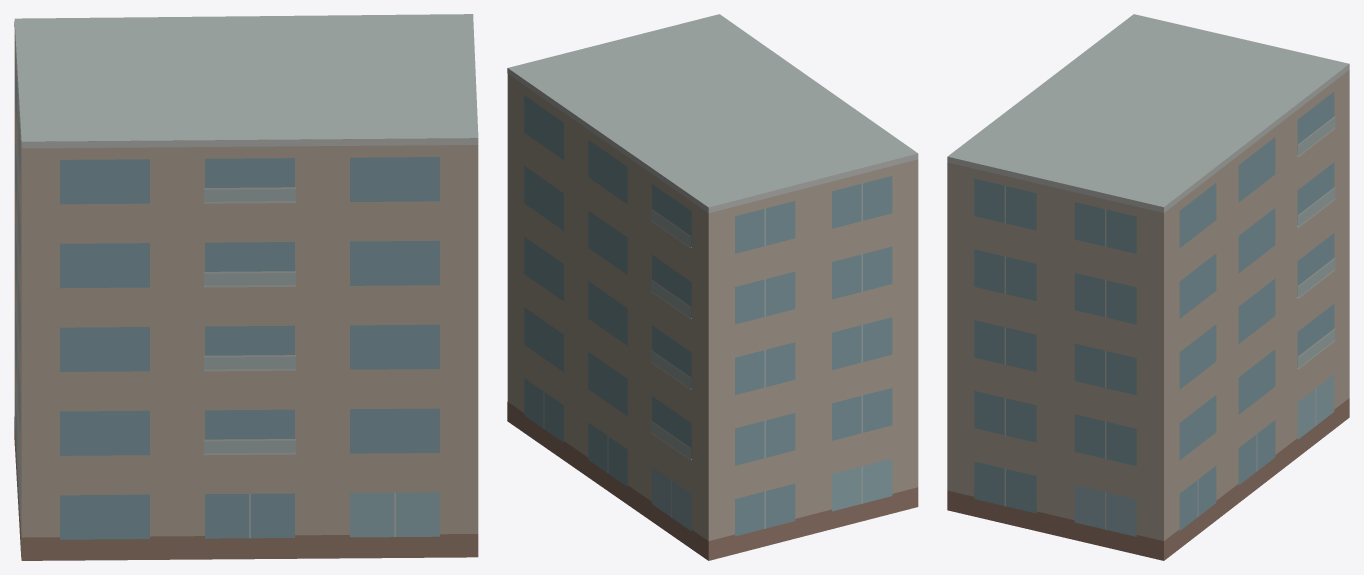
Rendered from survey-upis-32847880.glb.
3 renders of one model, left to right at view 1: azimuth 30°, elevation 25°; view 2: azimuth 150°, elevation 25°; view 3: azimuth 270°, elevation 25°, orthographic. The views are drawn at different scales.
Visible parts, largest first — view 1: survey-upis-32847880.tmp; view 2: survey-upis-32847880.tmp; view 3: survey-upis-32847880.tmp.
Boxes of the visible parts, x1,y1,x2,y2 form: survey-upis-32847880.tmp: [14, 14, 478, 560]; survey-upis-32847880.tmp: [507, 14, 918, 560]; survey-upis-32847880.tmp: [947, 14, 1349, 560].
Bounding box in the file's own units: 17.53 × 14.95 × 15.42.
